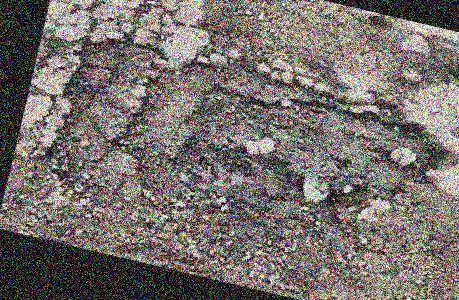pothole: (101, 36, 458, 300), (438, 37, 459, 110)
